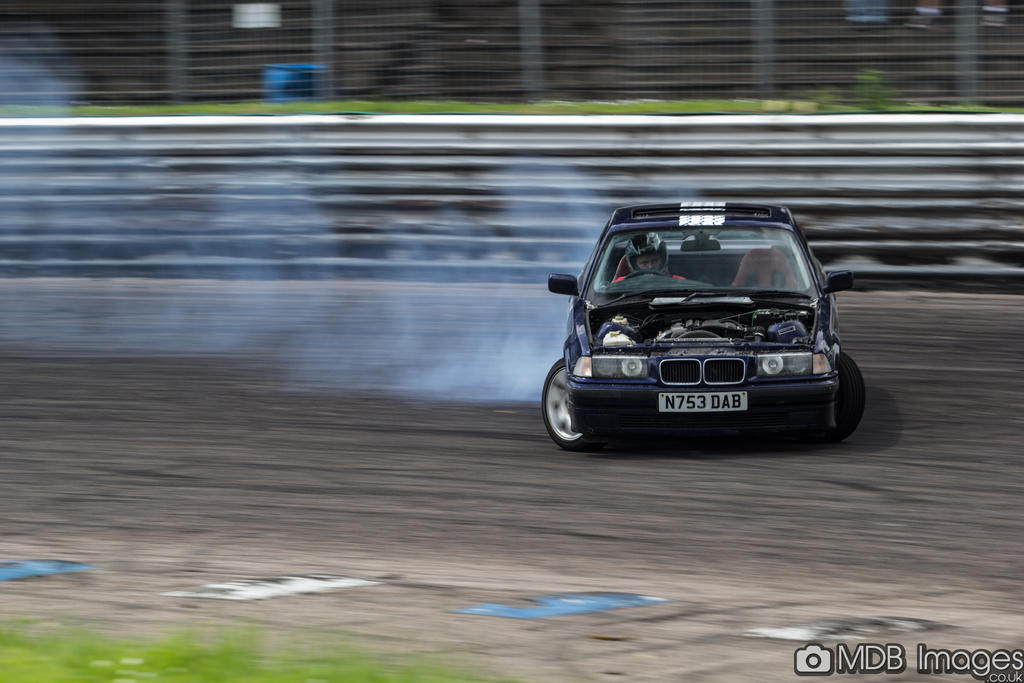Car: (550, 205, 857, 457)
